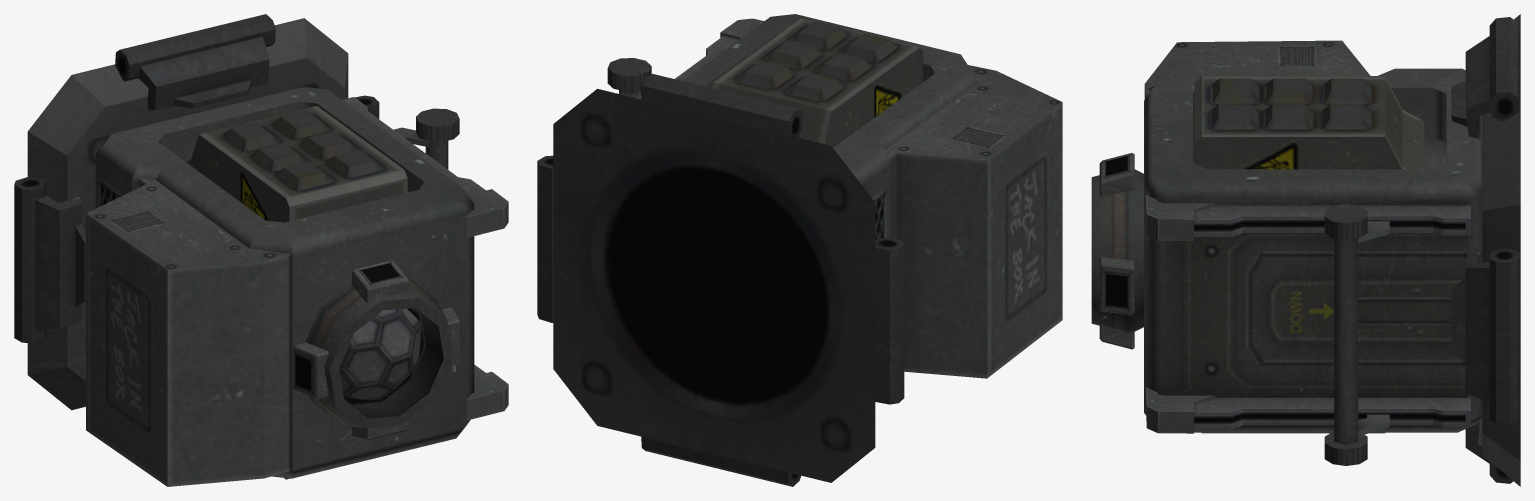
Rendered from t6_wpn_trophy_system_world_LOD0.obj.
3 views of the same model, side by side, from view 1: azimuth 30°, elevation 25°; view 2: azimuth 150°, elevation 25°; view 3: azimuth 270°, elevation 25° (orthographic). The views are drawn at different scales.
Parts seen in each view (by area): view 1: mtl_t6_wpn_trophy_system; view 2: mtl_t6_wpn_trophy_system; view 3: mtl_t6_wpn_trophy_system.
Part boxes in pixels (bbox=[...]): mtl_t6_wpn_trophy_system: bbox=[14, 14, 508, 486]; mtl_t6_wpn_trophy_system: bbox=[537, 14, 1062, 486]; mtl_t6_wpn_trophy_system: bbox=[1091, 14, 1520, 486].
Size of the model in its own units: 51.49 by 49.08 by 48.74.
